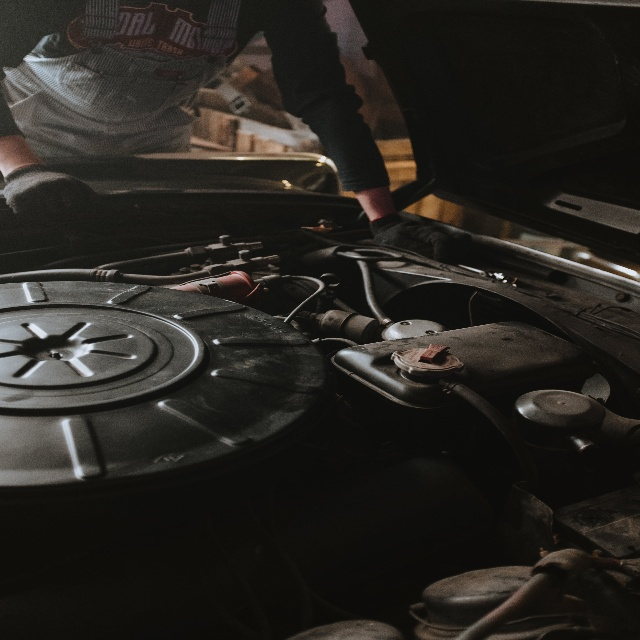Guantes: (3, 164, 100, 228), (368, 209, 473, 266)
